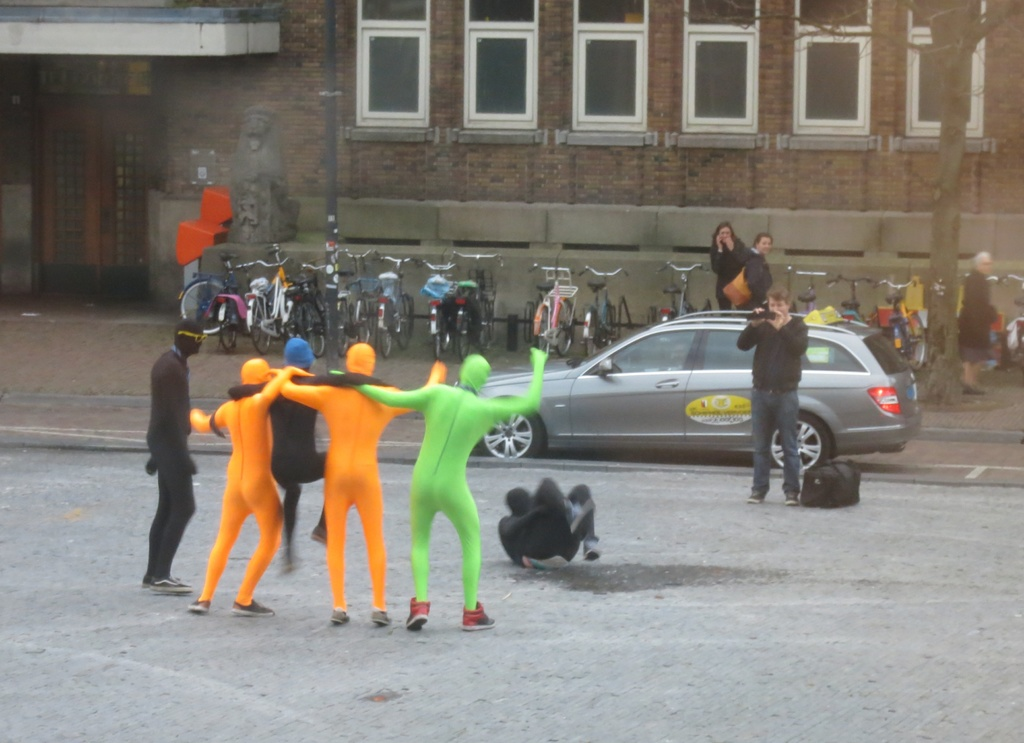Car: (485, 302, 920, 490)
